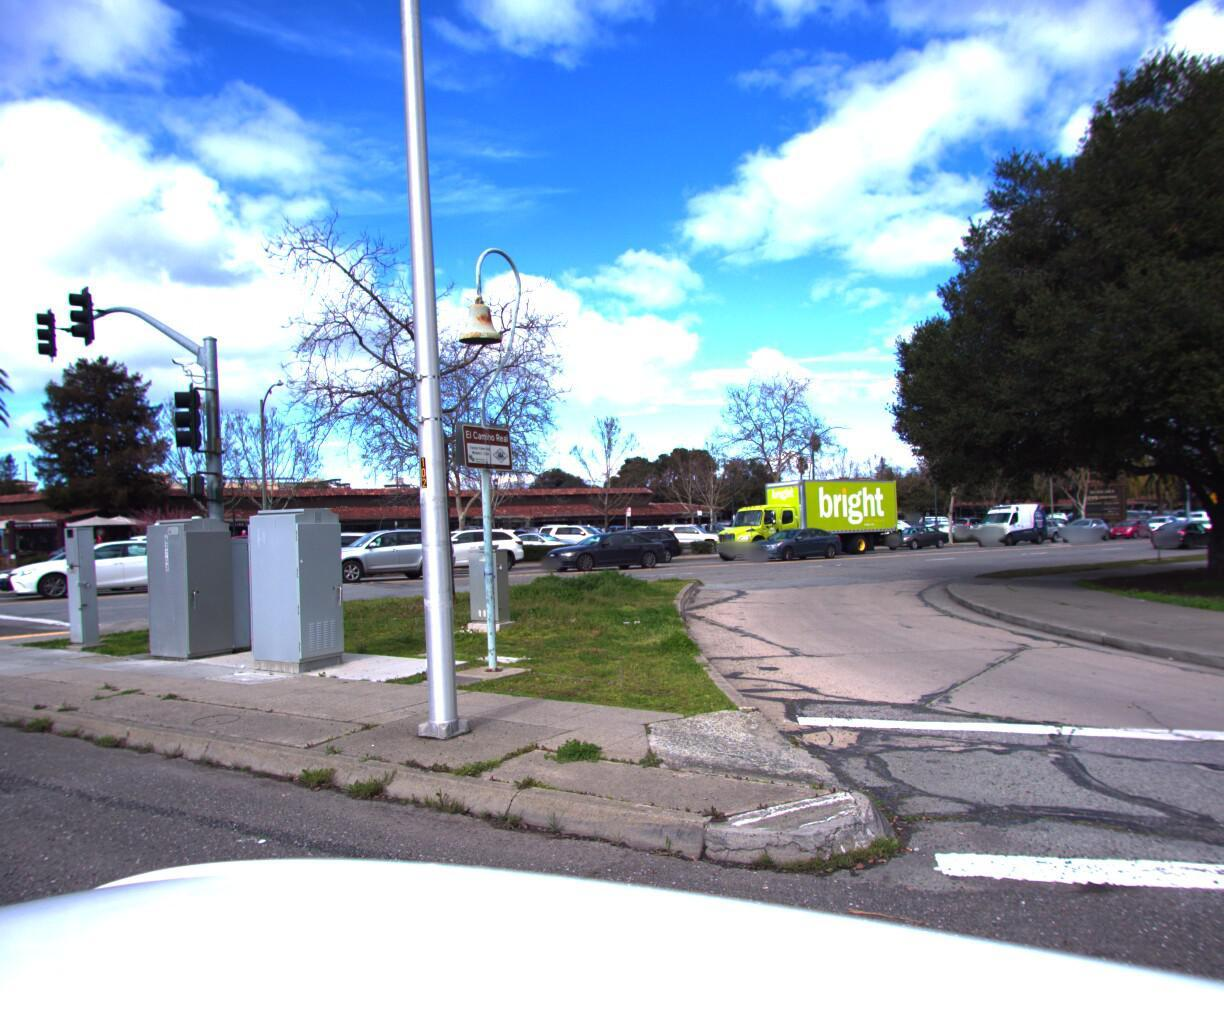car: (5, 536, 216, 603), (312, 526, 469, 586), (293, 526, 431, 579), (406, 525, 543, 575), (538, 526, 675, 574), (582, 526, 686, 568), (126, 528, 231, 567), (744, 527, 850, 565), (534, 520, 625, 551), (499, 528, 589, 559), (969, 500, 1048, 535), (653, 520, 732, 548), (1145, 520, 1217, 550), (881, 522, 946, 548), (1100, 515, 1158, 544), (1133, 513, 1187, 539), (1054, 516, 1109, 540), (1208, 519, 1224, 548)
truck: (700, 484, 905, 573)
